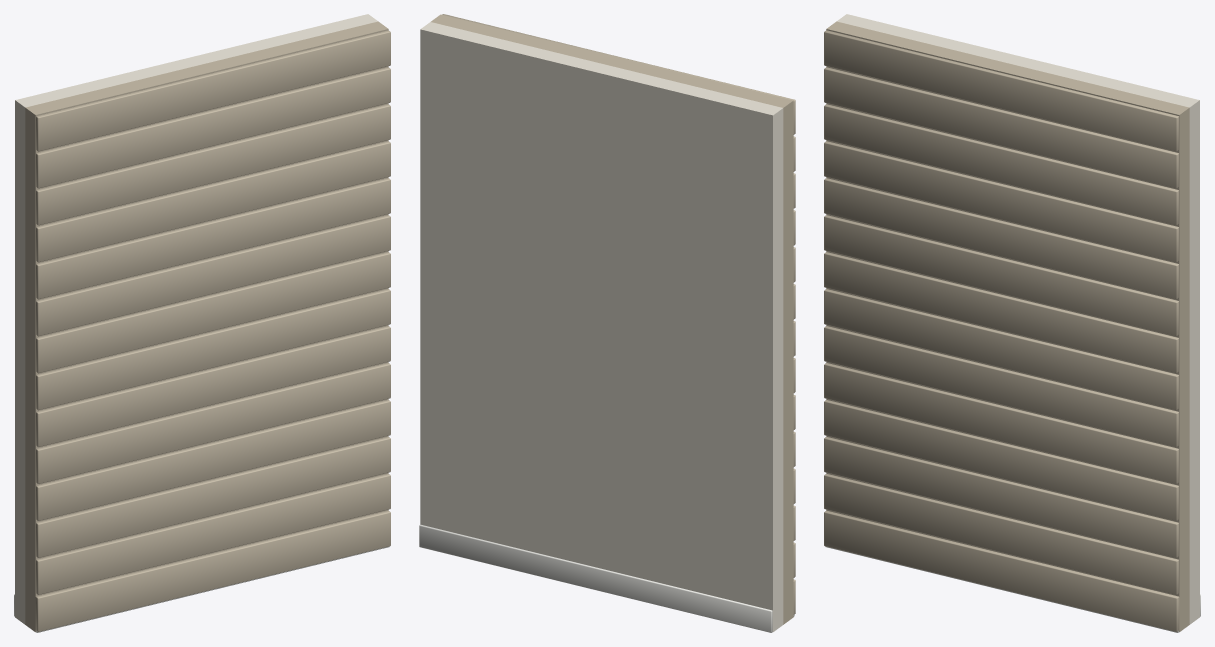
The model's file is Wall_Siding_2m.fbx.
3 renders of one model, left to right at view 1: azimuth 30°, elevation 25°; view 2: azimuth 150°, elevation 25°; view 3: azimuth 330°, elevation 25°, orthographic.
Parts seen in each view (by area): view 1: Wall_Siding_2m; view 2: Wall_Siding_2m; view 3: Wall_Siding_2m.
Part boxes in pixels (<box>): Wall_Siding_2m: <box>14,14,390,632</box>; Wall_Siding_2m: <box>419,14,795,632</box>; Wall_Siding_2m: <box>824,14,1200,632</box>.
Size of the model in its own units: 2 by 0.239 by 2.8.
